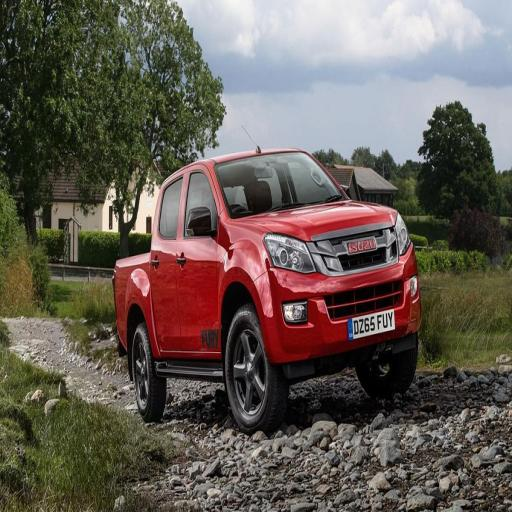pickup: (113, 148, 421, 432)
